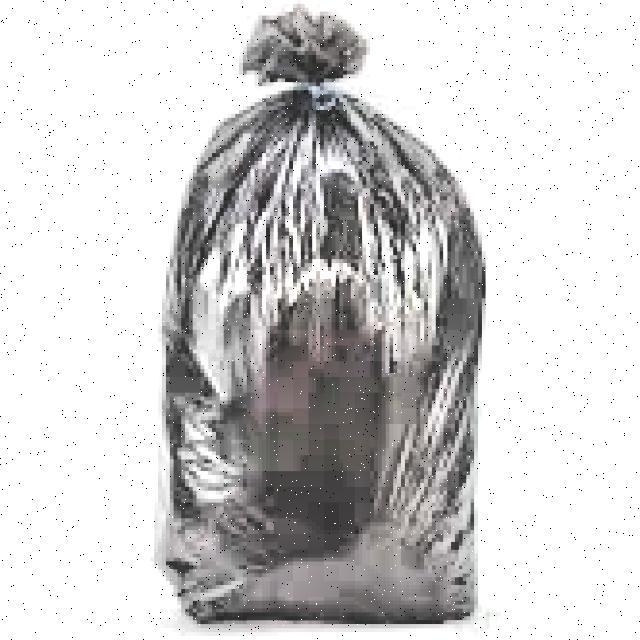Trashbag: (124, 82, 518, 621)
